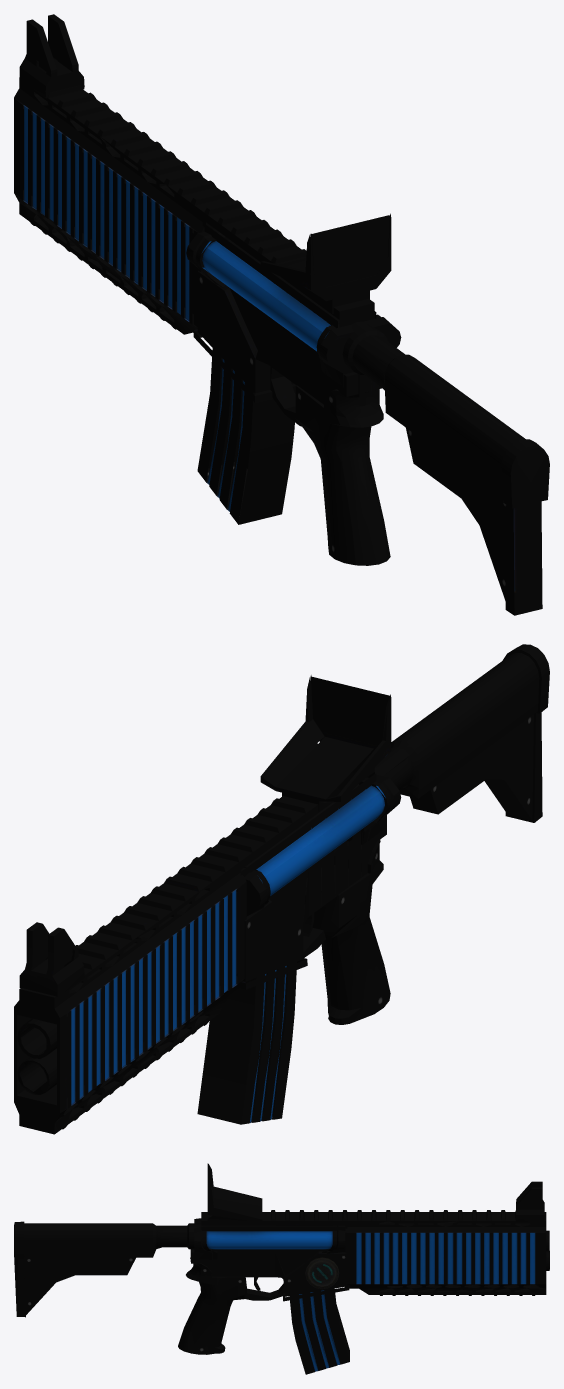
Rendered from Gun_2.FBX.
3 renders of one model, top to bottom at view 1: azimuth 30°, elevation 25°; view 2: azimuth 150°, elevation 25°; view 3: azimuth 270°, elevation 25°, orthographic. The views are drawn at different scales.
Parts seen in each view (by area): view 1: Gun_2; view 2: Gun_2; view 3: Gun_2.
Boxes of the visible parts, x1,y1,x2,y2 form: Gun_2: (14, 14, 549, 615); Gun_2: (14, 644, 549, 1134); Gun_2: (14, 1163, 549, 1374).
Bounding box in the file's own units: 5.77 × 24.87 × 61.84.
Materials: 1 (1 with a texture image).
